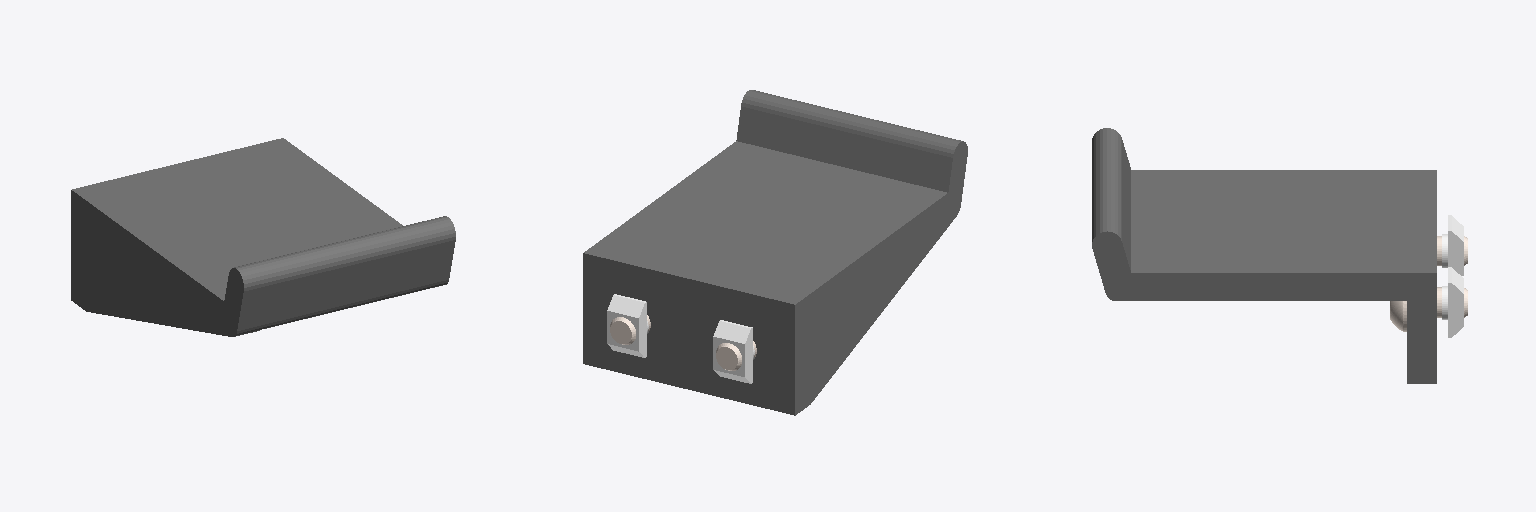
File: DragChainSupportBracket.obj
The picture shows the model from 3 angles: view 1: azimuth 30°, elevation 25°; view 2: azimuth 150°, elevation 25°; view 3: azimuth 270°, elevation 25°; orthographic projection.
Parts seen in each view (by area): view 1: Root|Drag_Chain_Support_Bracket_with_Tee_Nut_(Default)|Default|p; view 2: Root|Drag_Chain_Support_Bracket_with_Tee_Nut_(Default)|Default|p, Root|Drag_Chain_Support_Bracket_with_Tee_Nut_(Default)|Default|s; view 3: Root|Drag_Chain_Support_Bracket_with_Tee_Nut_(Default)|Default|p, Root|Drag_Chain_Support_Bracket_with_Tee_Nut_(Default)|Default|s.
Boxes of the visible parts, <box> form: Root|Drag_Chain_Support_Bracket_with_Tee_Nut_(Default)|Default|p: <box>71,138,455,336</box>; Root|Drag_Chain_Support_Bracket_with_Tee_Nut_(Default)|Default|p: <box>583,90,967,415</box>; Root|Drag_Chain_Support_Bracket_with_Tee_Nut_(Default)|Default|s: <box>610,315,756,370</box>; Root|Drag_Chain_Support_Bracket_with_Tee_Nut_(Default)|Default|p: <box>1092,128,1463,383</box>; Root|Drag_Chain_Support_Bracket_with_Tee_Nut_(Default)|Default|s: <box>1390,236,1467,331</box>.
Size of the model in its own units: 0.04 by 0.0275 by 0.0614.